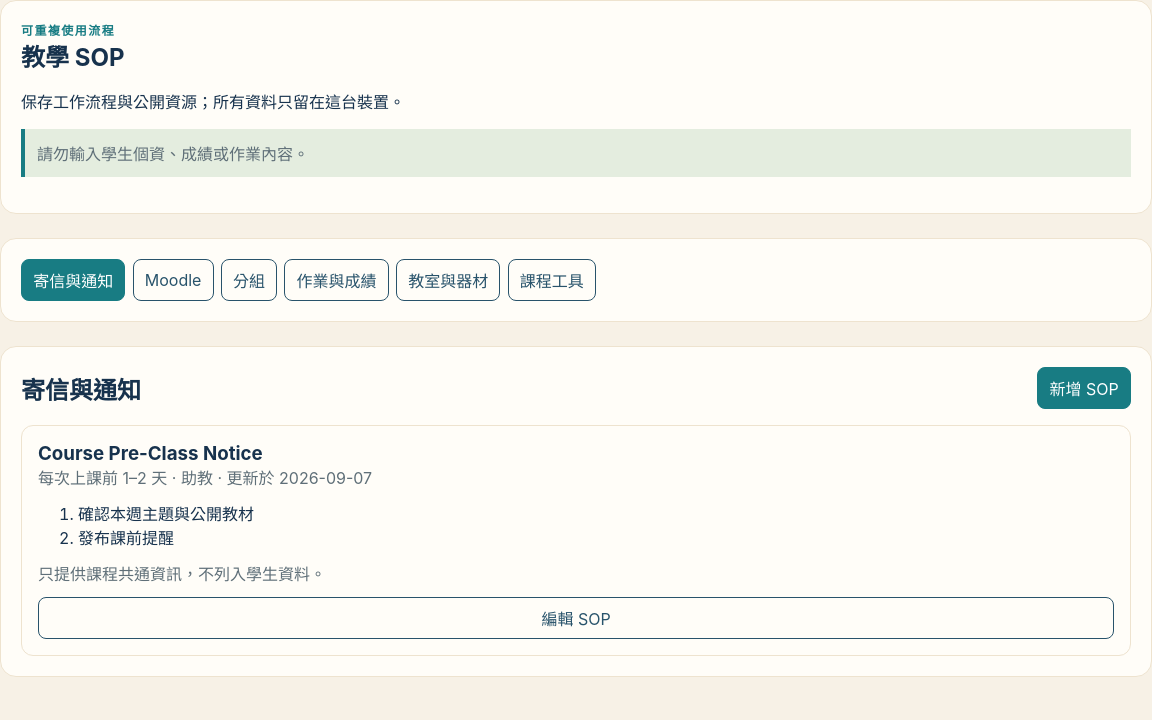
Scenario: SopPage › shows all six SOP categories and the no-PII reminder
The image size is (1152, 720).
Check: the tab "寄信與通知" is shown, box [21, 259, 125, 301]
Check: the tab "Moodle" is shown, box [133, 259, 214, 301]
Click the tab "教室與器材".
click(448, 280)  # box [396, 259, 500, 301]
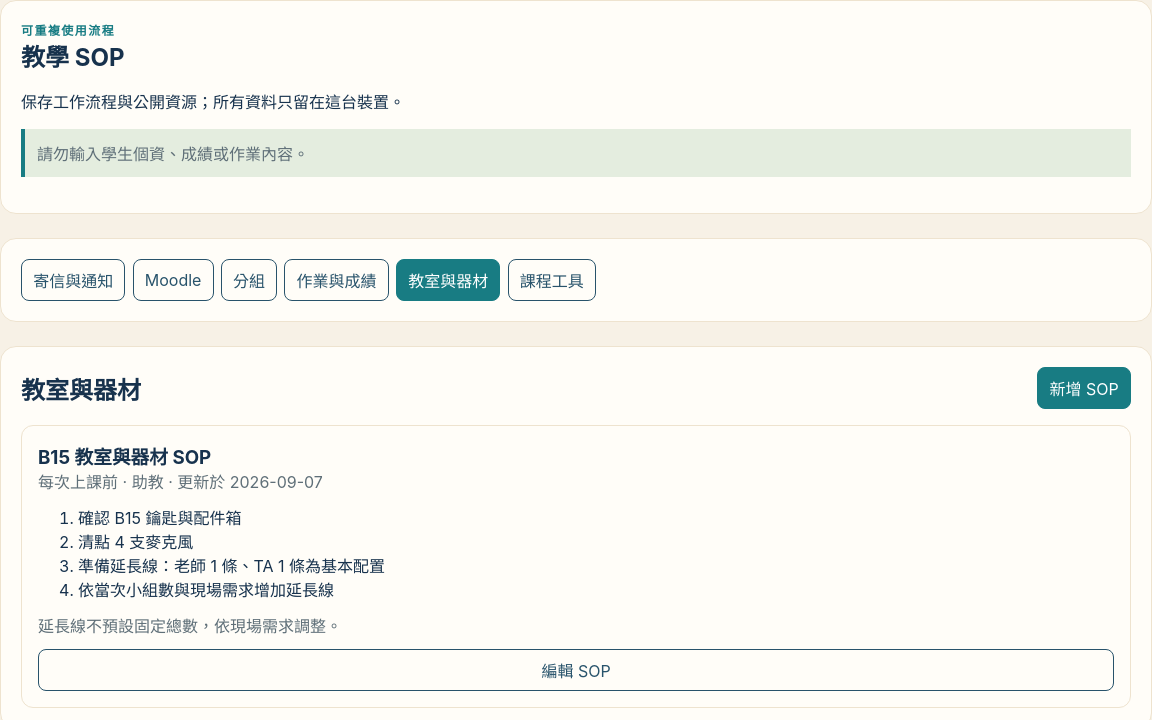
Check: the heading "B15 教室與器材 SOP" is shown, box [38, 446, 211, 469]
Check: the list item "準備延長線：老師 1 條、TA 1 條為基本配置" is shown, box [78, 556, 385, 576]
